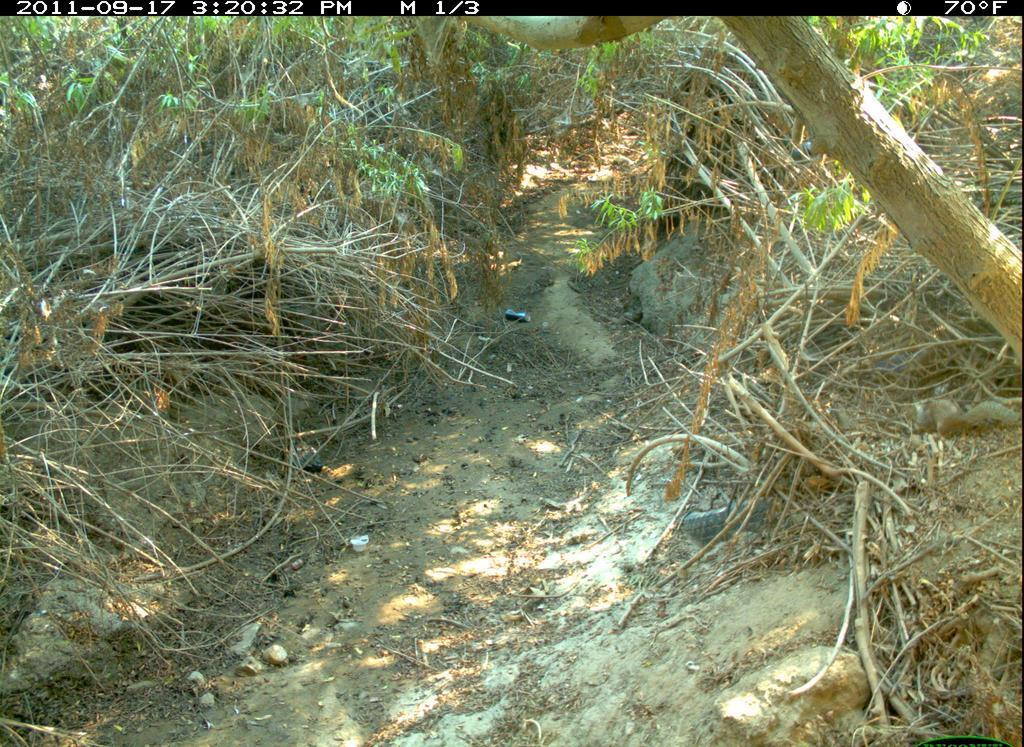squirrel: (895, 385, 1022, 444)
